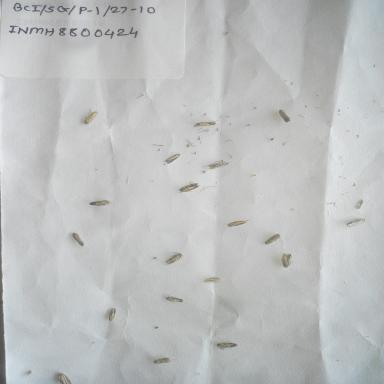pbw: (164, 249, 187, 268), (260, 232, 286, 248), (78, 109, 101, 127), (162, 152, 186, 168), (275, 251, 294, 271), (342, 216, 369, 230), (214, 338, 240, 352), (204, 158, 230, 172), (224, 218, 251, 231), (196, 274, 225, 286), (67, 230, 85, 249), (102, 306, 122, 323), (150, 354, 174, 368), (162, 294, 187, 307), (190, 118, 222, 128), (179, 182, 204, 194), (275, 107, 292, 124), (53, 371, 76, 383), (86, 198, 111, 209)
